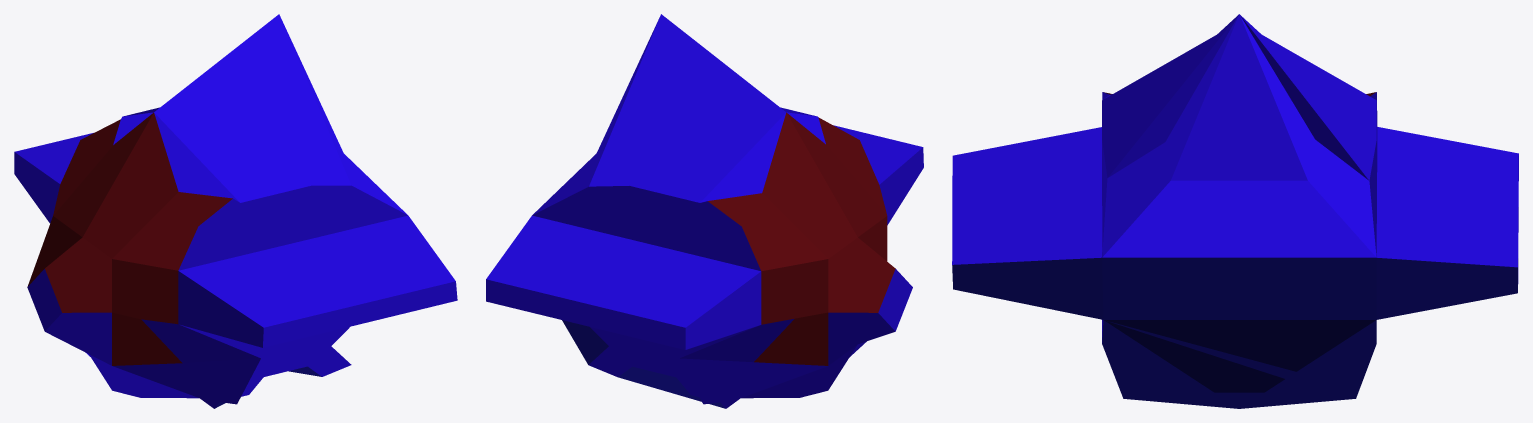
The model's file is YanoPlane.fbx.
3 views of the same model, side by side, from view 1: azimuth 30°, elevation 25°; view 2: azimuth 150°, elevation 25°; view 3: azimuth 270°, elevation 25° (orthographic). The views are drawn at different scales.
Parts seen in each view (by area): view 1: Cube; view 2: Cube; view 3: Cube.
Boxes of the visible parts, box(x1,y1,x2,y2) form: Cube: box(14, 14, 457, 408); Cube: box(486, 14, 923, 408); Cube: box(952, 14, 1518, 408).
Bounding box in the file's own units: 298 × 314 × 413.
